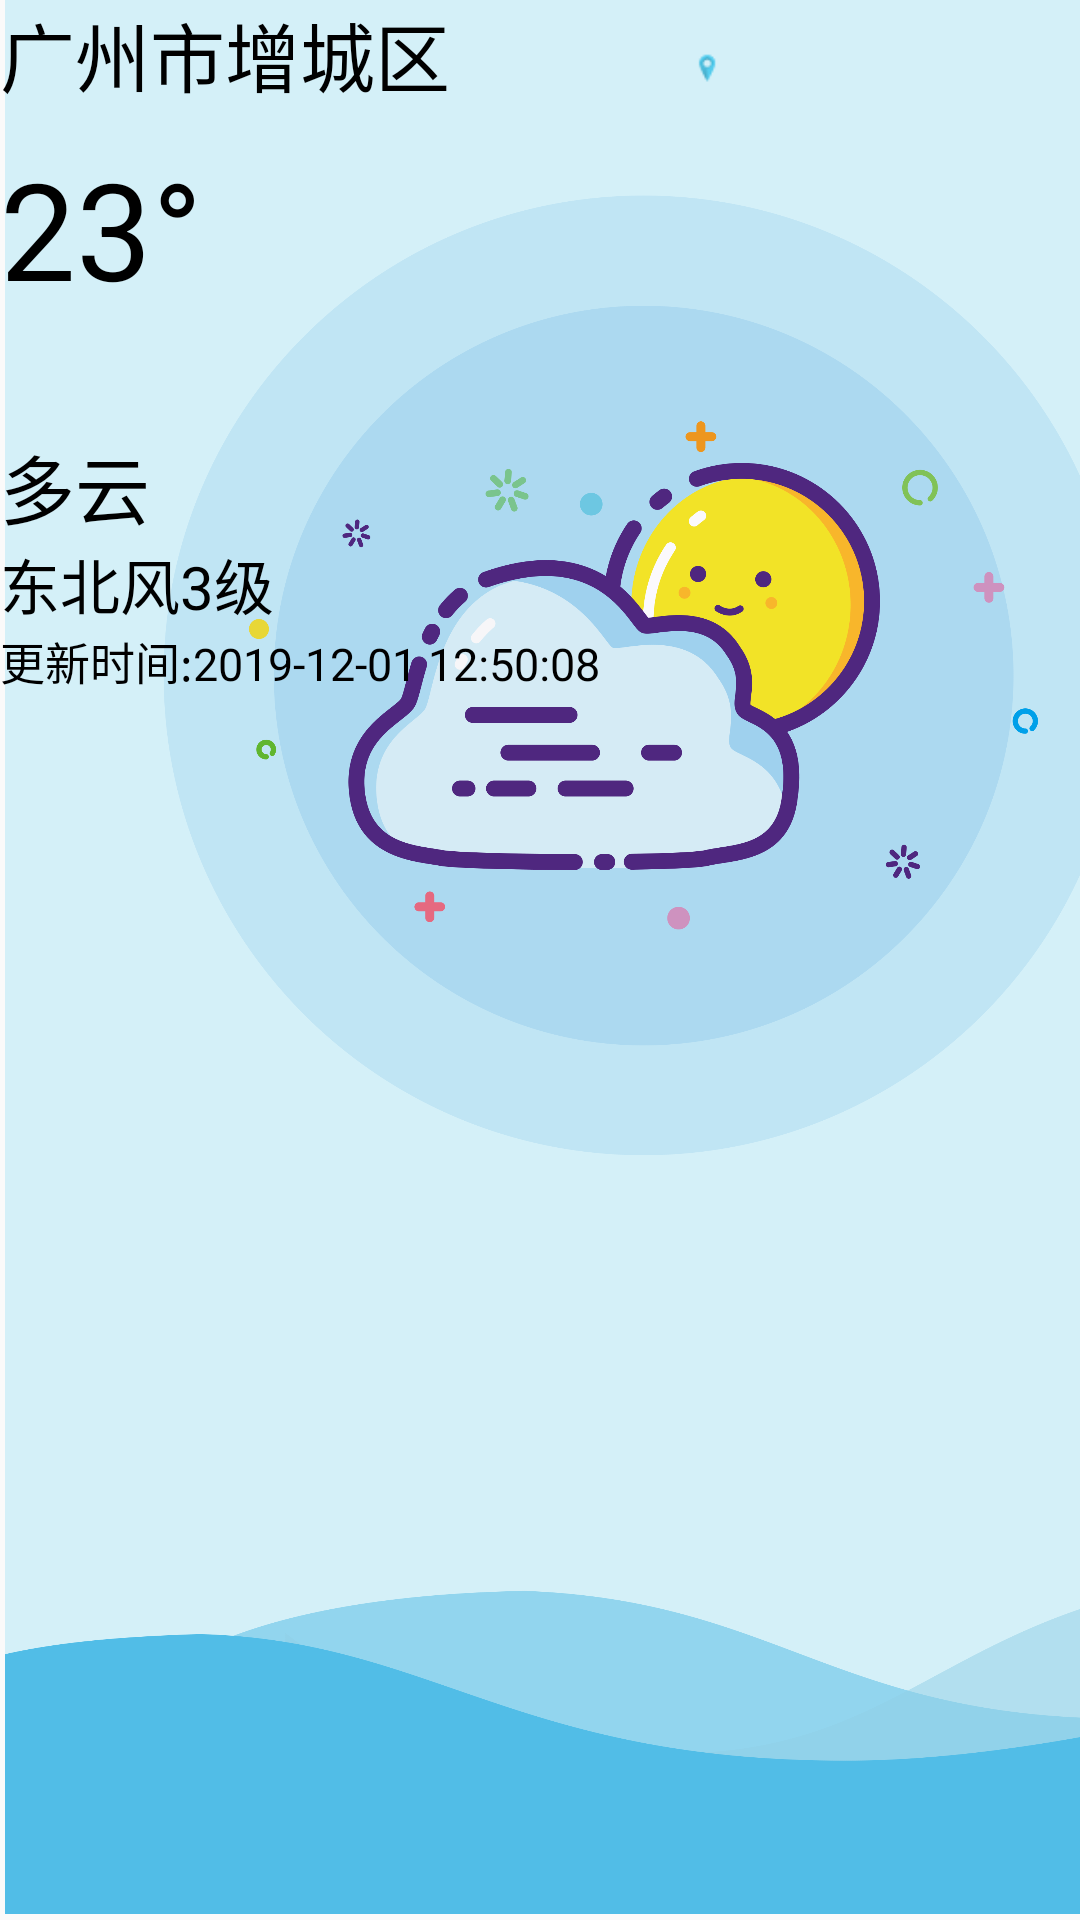

Screen size 1080x1920. Icon name, then its center in pixels as (x,y):
location: (707,68)
